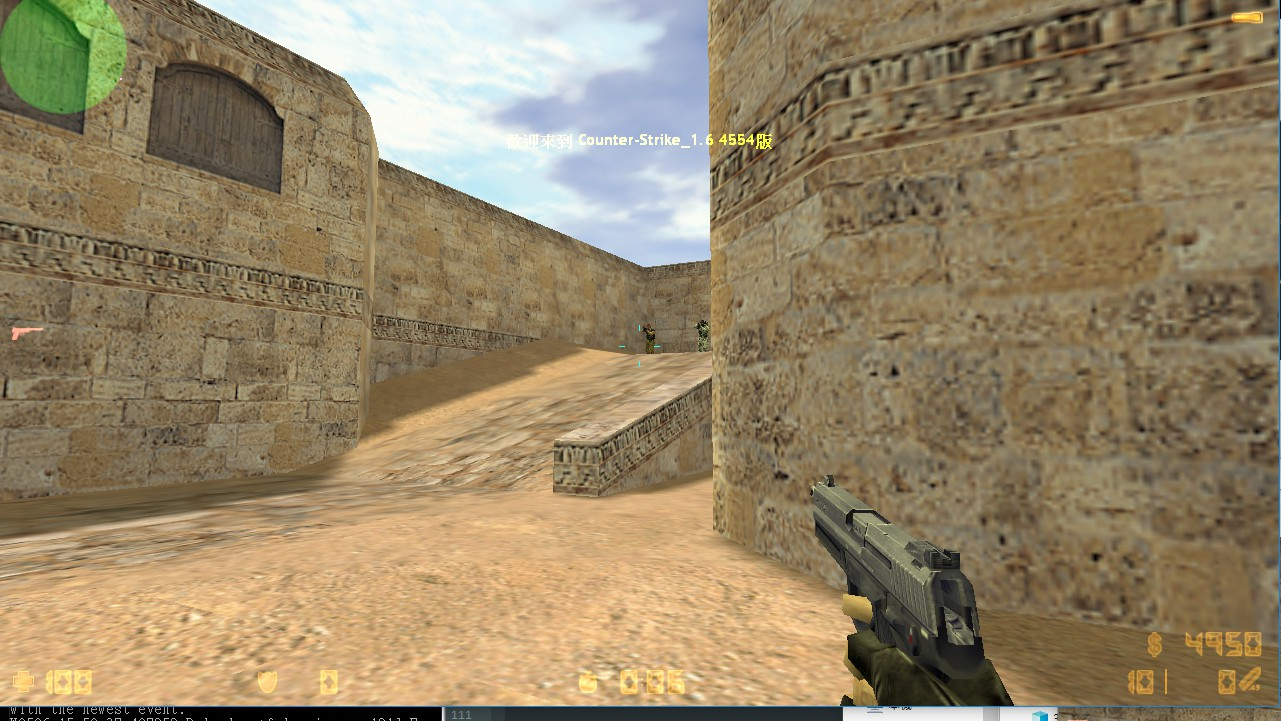person: (641, 322, 658, 354), (694, 319, 710, 352)
